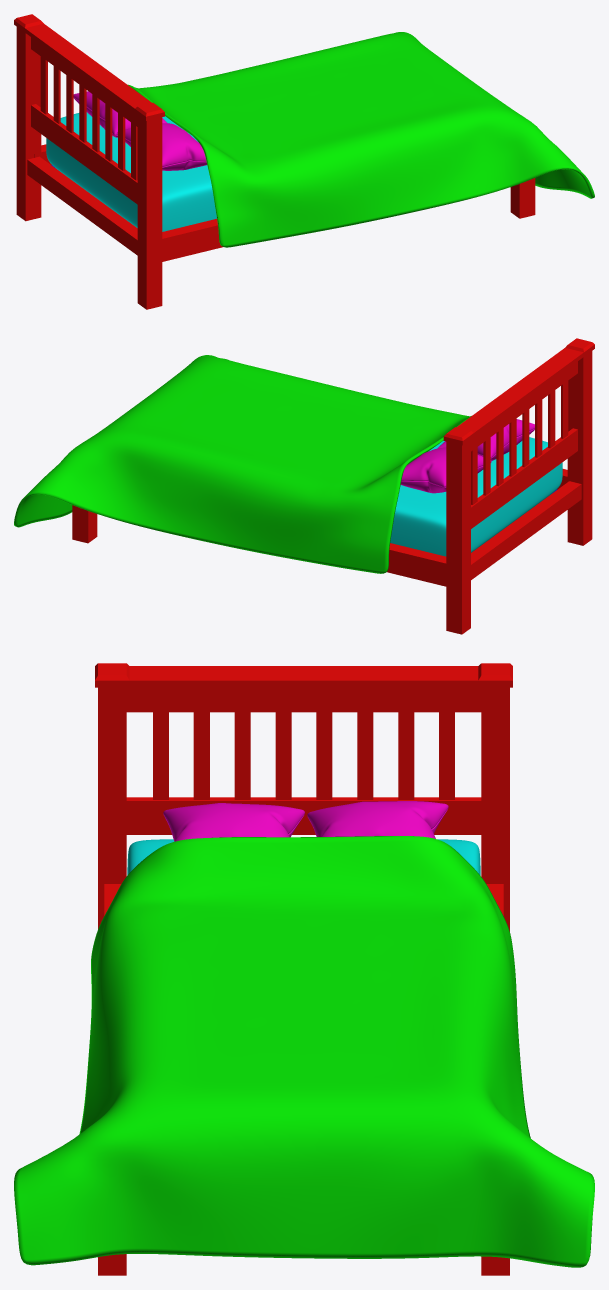
The model's file is Bed Frame Model.fbx.
The picture shows the model from 3 angles, top to bottom: view 1: azimuth 30°, elevation 25°; view 2: azimuth 150°, elevation 25°; view 3: azimuth 270°, elevation 25°; orthographic projection. The views are drawn at different scales.
Parts seen in each view (by area): view 1: Plane, Back Board, Back Legs, Cube, Back Frame, Side Frame, Pillow 1.001, Front Legs, Pillow 1; view 2: Plane, Back Board, Back Legs, Cube, Back Frame, Side Frame, Pillow 1, Front Legs, Pillow 1.001; view 3: Plane, Back Board, Back Legs, Pillow 1, Pillow 1.001, Cube, Front Legs.
Boxes of the visible parts, <box> form: Plane: <box>128,32,594,247</box>; Back Board: <box>14,14,164,204</box>; Back Legs: <box>16,27,162,309</box>; Cube: <box>46,112,216,231</box>; Back Frame: <box>27,156,137,255</box>; Side Frame: <box>34,144,222,261</box>; Pillow 1.001: <box>117,123,206,170</box>; Front Legs: <box>510,178,535,218</box>; Pillow 1: <box>73,91,167,137</box>; Plane: <box>14,355,471,573</box>; Back Board: <box>443,338,594,528</box>; Back Legs: <box>446,351,592,634</box>; Cube: <box>390,437,562,556</box>; Back Frame: <box>471,481,581,579</box>; Side Frame: <box>387,469,574,586</box>; Pillow 1: <box>400,447,491,493</box>; Front Legs: <box>72,505,97,543</box>; Pillow 1.001: <box>437,419,534,460</box>; Plane: <box>14,836,594,1267</box>; Back Board: <box>95,663,512,834</box>; Back Legs: <box>98,687,509,931</box>; Pillow 1: <box>307,801,448,838</box>; Pillow 1.001: <box>163,803,304,841</box>; Cube: <box>127,839,480,875</box>; Front Legs: <box>98,1254,509,1275</box>.
Size of the model in its own units: 1670 by 736 by 1243.
